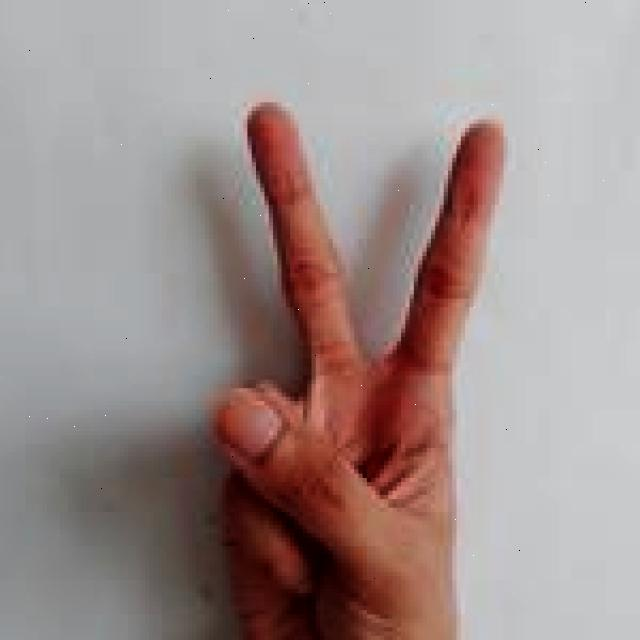V: (206, 91, 514, 640)
